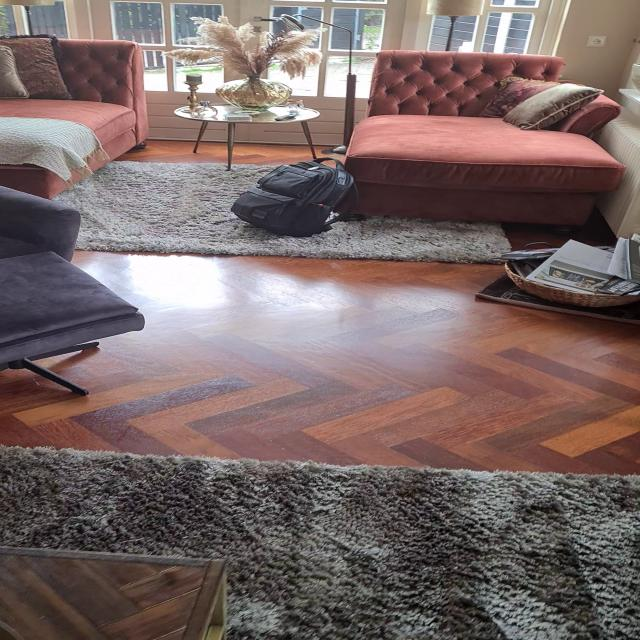backpack: (225, 155, 362, 238)
